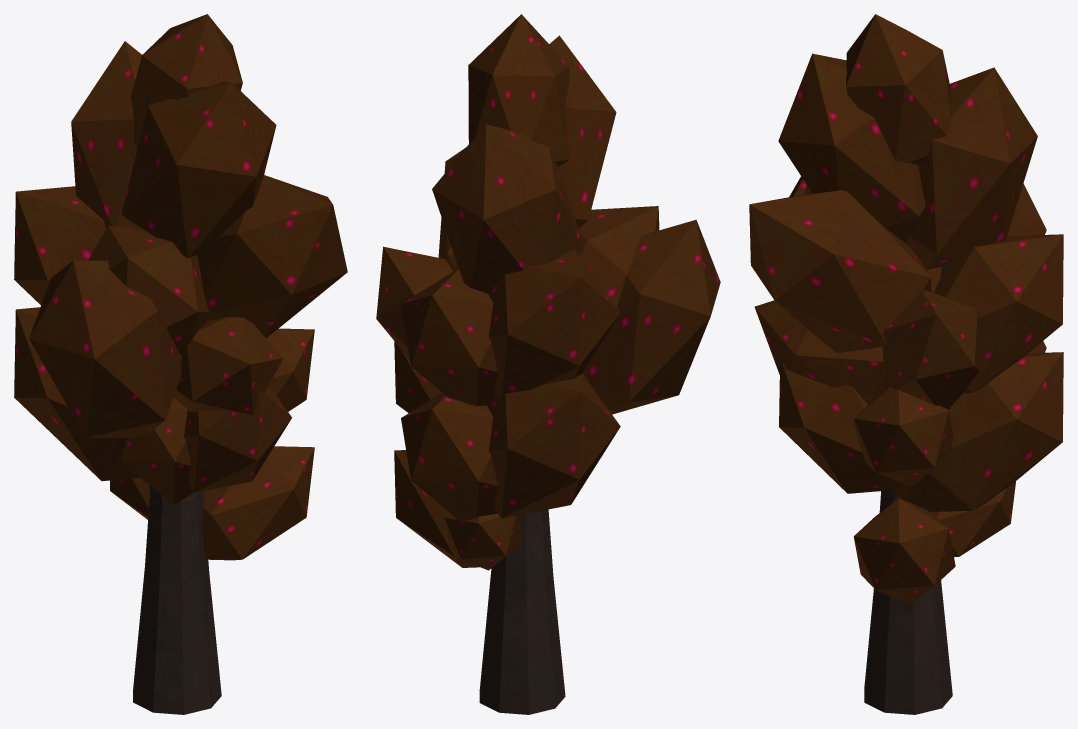
Rendered from tree-brown-red-flowers_9.fbx.
3 renders of one model, left to right at view 1: azimuth 30°, elevation 25°; view 2: azimuth 150°, elevation 25°; view 3: azimuth 270°, elevation 25°, orthographic. The views are drawn at different scales.
Visible parts, largest first — view 1: Icosphere.138; view 2: Icosphere.138; view 3: Icosphere.138.
Part boxes in pixels (left/top/right/bottom): Icosphere.138: left=14, top=14, right=347, bottom=714; Icosphere.138: left=376, top=14, right=720, bottom=714; Icosphere.138: left=749, top=14, right=1063, bottom=714.
Bounding box in the file's own units: 180 × 387 × 160.
